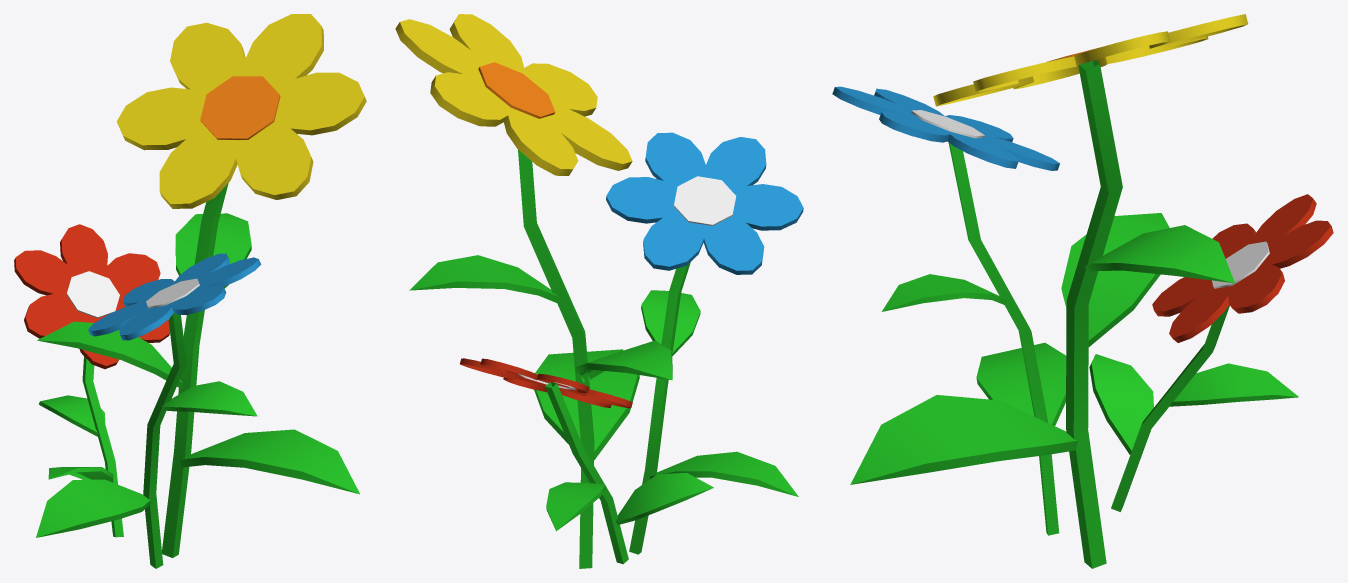
The model's file is flower1.FBX.
3 renders of one model, left to right at view 1: azimuth 30°, elevation 25°; view 2: azimuth 150°, elevation 25°; view 3: azimuth 270°, elevation 25°, orthographic. The views are drawn at different scales.
Visible parts, largest first — view 1: Object1379; view 2: Object1379; view 3: Object1379.
Part boxes in pixels (x1,y1,x2,y2): Object1379: (14, 14, 366, 568); Object1379: (395, 14, 803, 568); Object1379: (832, 14, 1333, 568).
Bounding box in the file's own units: 1.02 × 1.45 × 1.05.
